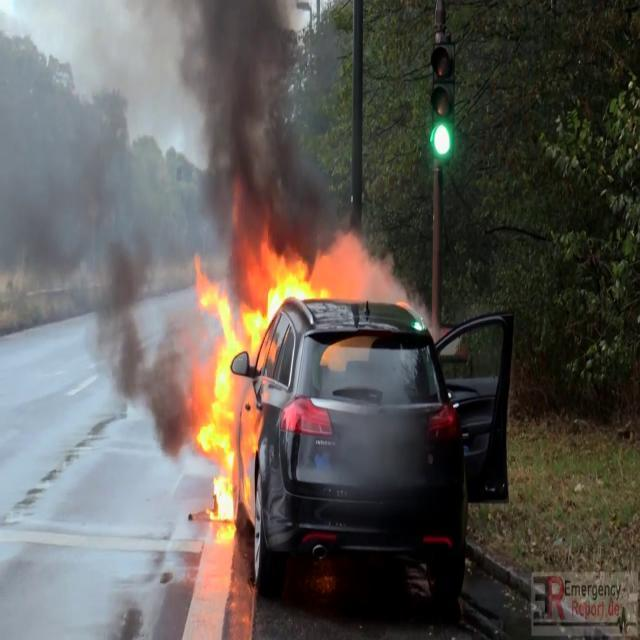Fire: (187, 270, 273, 524), (260, 233, 388, 307)
Smoke: (0, 0, 200, 418), (160, 0, 347, 252)
